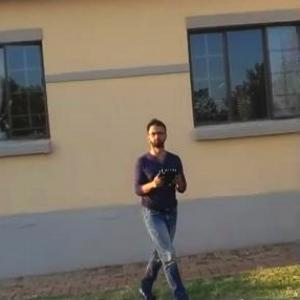follow: (138, 109, 204, 299)
